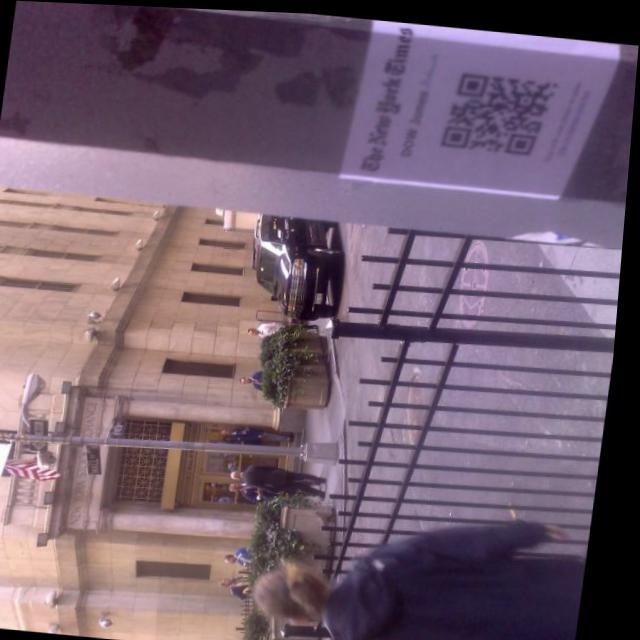qrcode: (444, 69, 560, 152)
